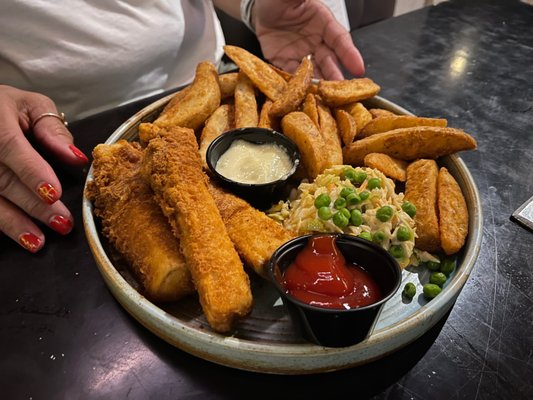sushi: (269, 235, 402, 348), (204, 126, 301, 212)
